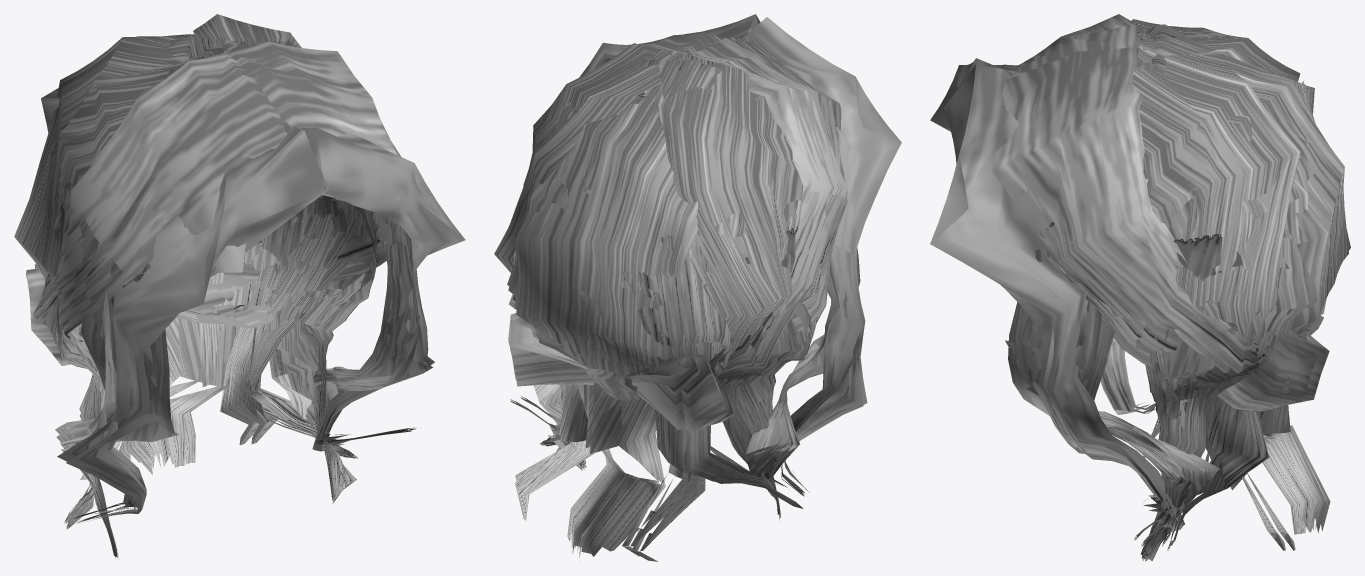
File: daz_hair_ballerina_bun.glb
The picture shows the model from 3 angles, left to right: view 1: azimuth 30°, elevation 25°; view 2: azimuth 150°, elevation 25°; view 3: azimuth 270°, elevation 25°; orthographic projection. The views are drawn at different scales.
Parts seen in each view (by area): view 1: daz_hair_ballerina_bun; view 2: daz_hair_ballerina_bun; view 3: daz_hair_ballerina_bun.
Boxes of the visible parts, bbox=[...] form: daz_hair_ballerina_bun: bbox=[14, 14, 465, 558]; daz_hair_ballerina_bun: bbox=[494, 14, 901, 561]; daz_hair_ballerina_bun: bbox=[930, 14, 1350, 561].
Bounding box in the file's own units: 0.1964 × 0.2471 × 0.1936.
1 material, 1 textured.
